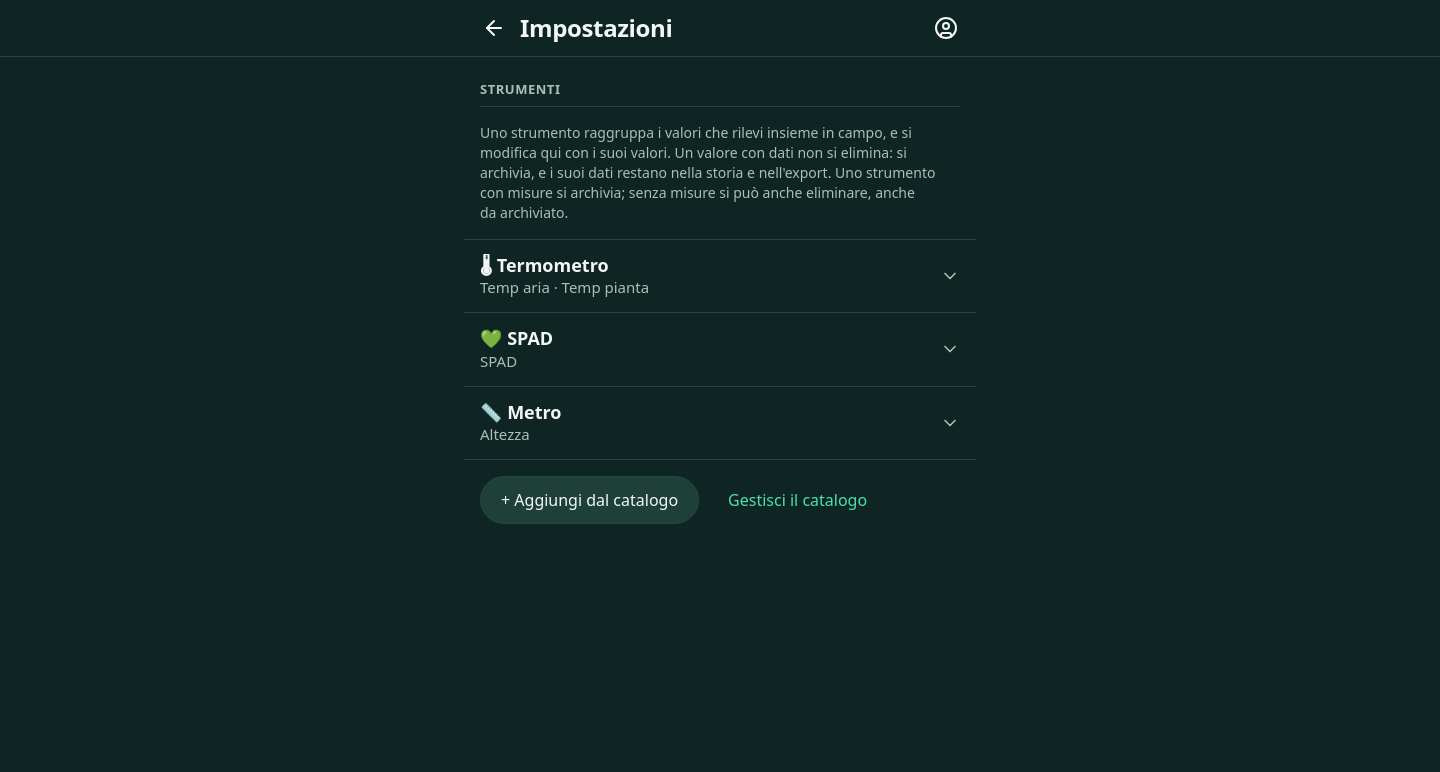
Test case: Impostazioni: dal piano › "Aggiungi dal catalogo" Ciras salva i suoi 4 valori con la chiave del catalogo e poi lo strumento
Expected: the element "Strumenti" is shown, left=480, top=81, right=960, bottom=524
Click the button "+ Aggiungi dal catalogo": (590, 500) left=480, top=476, right=699, bottom=524
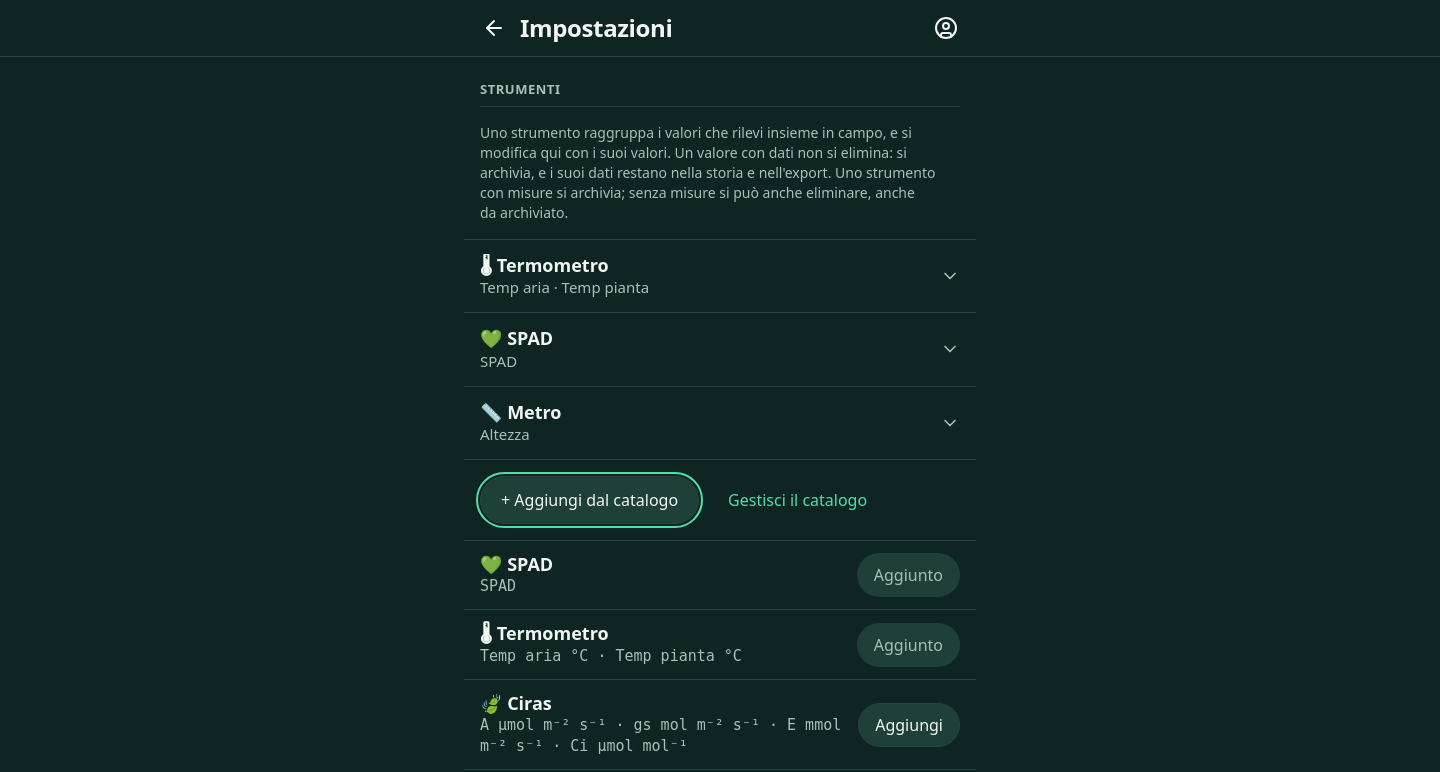
Click the button with aria-label "Aggiungi «Ciras»": (909, 724) left=858, top=702, right=960, bottom=746
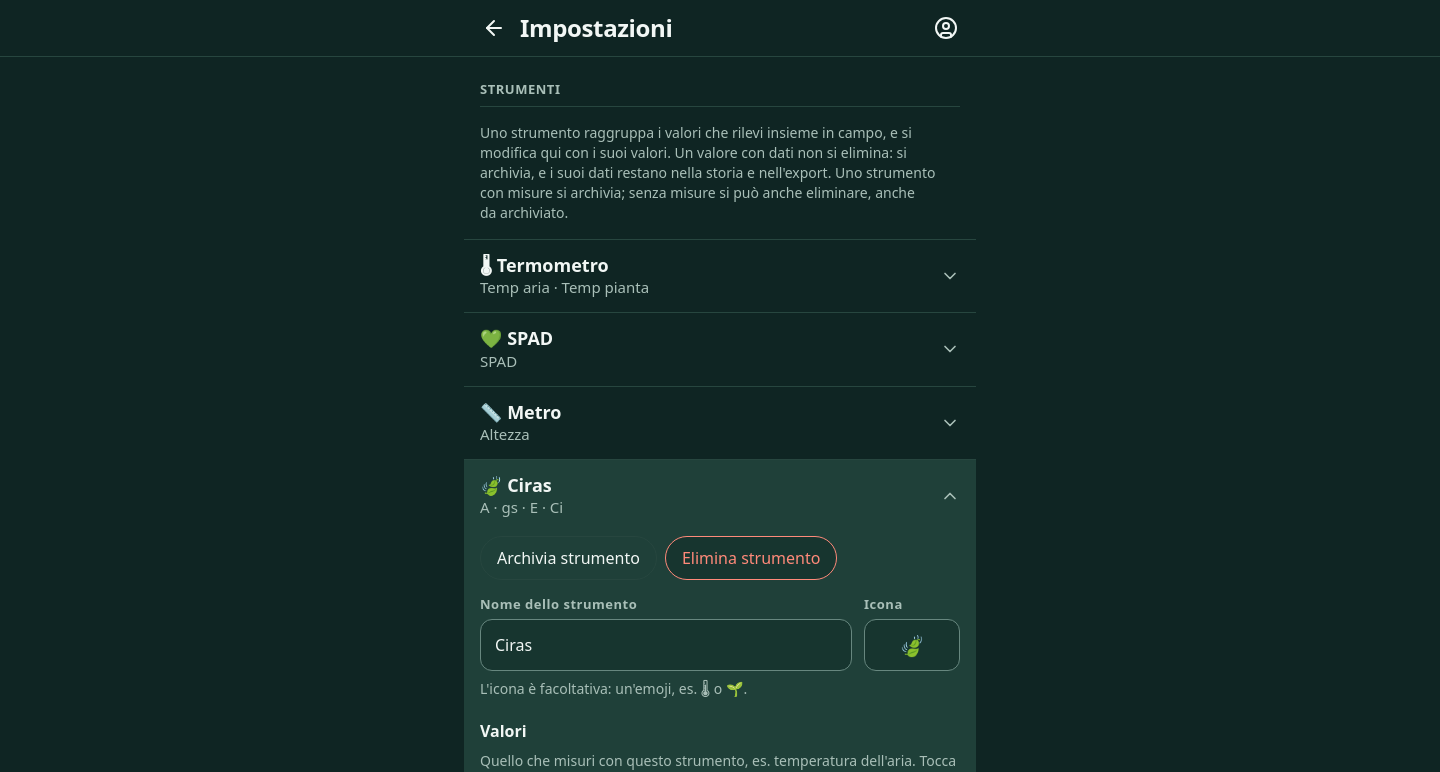
Now the button "🍃 Ciras A · gs · E · Ci" is shown, box left=464, top=460, right=976, bottom=532
